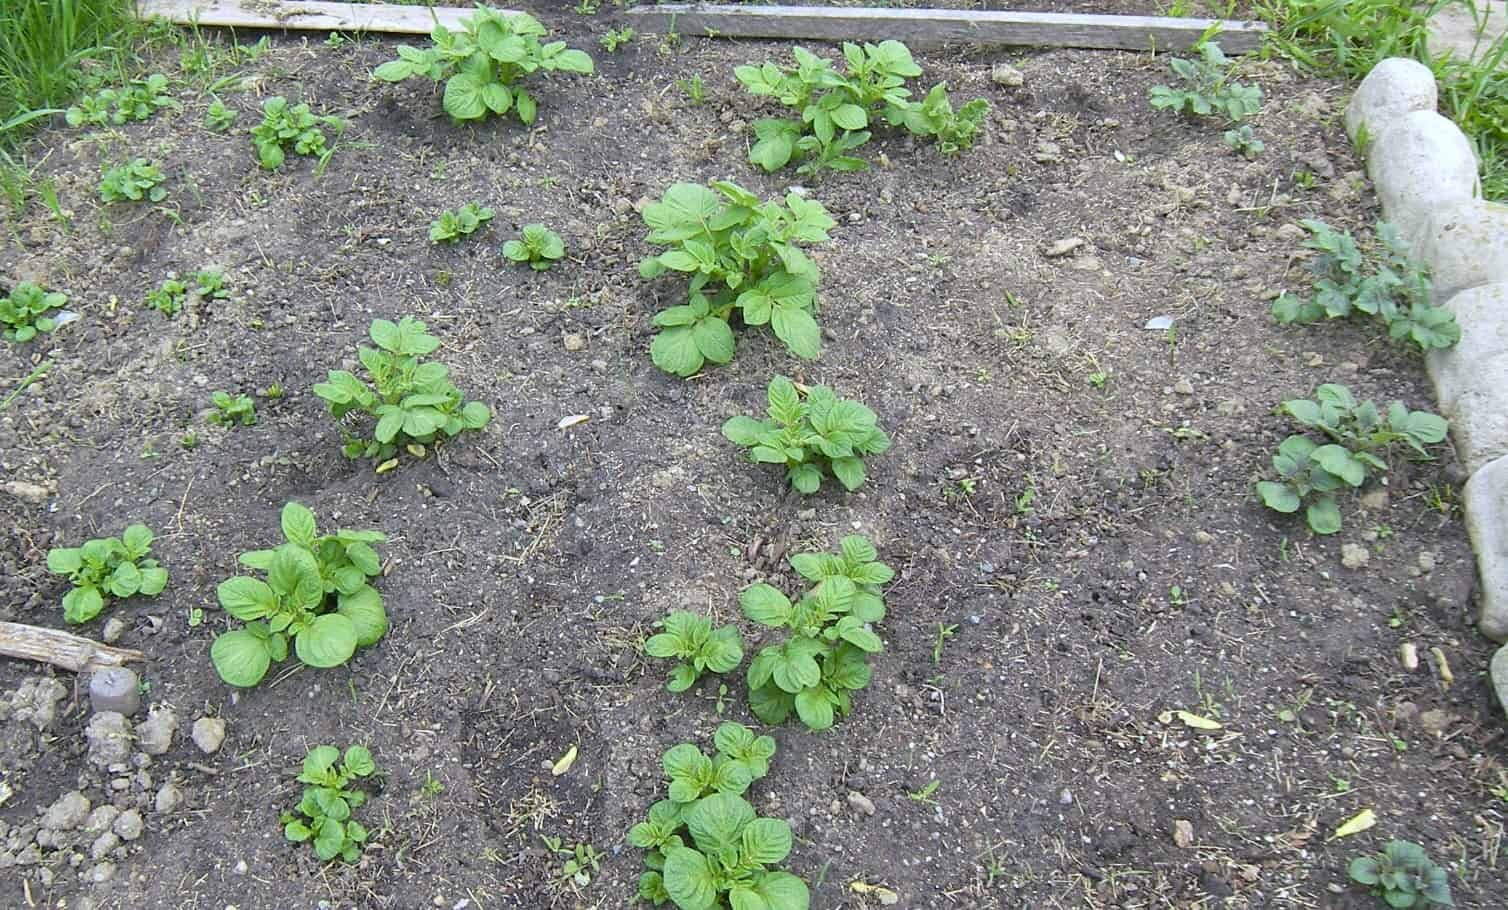potato_plant: (634, 176, 838, 376), (732, 39, 985, 188), (1257, 376, 1458, 542), (740, 532, 900, 739), (213, 517, 388, 692), (310, 314, 495, 468), (378, 8, 596, 134), (722, 373, 891, 500), (40, 527, 172, 621), (281, 736, 372, 864), (641, 603, 741, 694), (249, 90, 346, 174), (94, 151, 173, 211), (1, 280, 66, 344), (420, 197, 498, 246), (504, 227, 561, 270)
